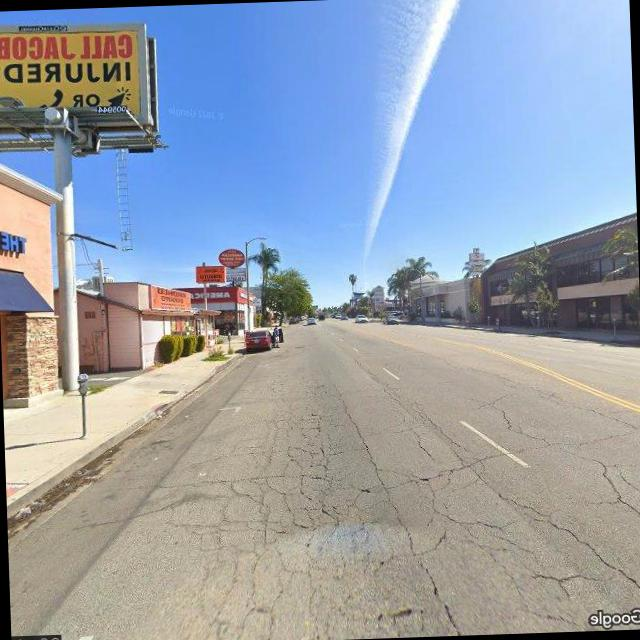crack: (169, 369, 640, 640)
